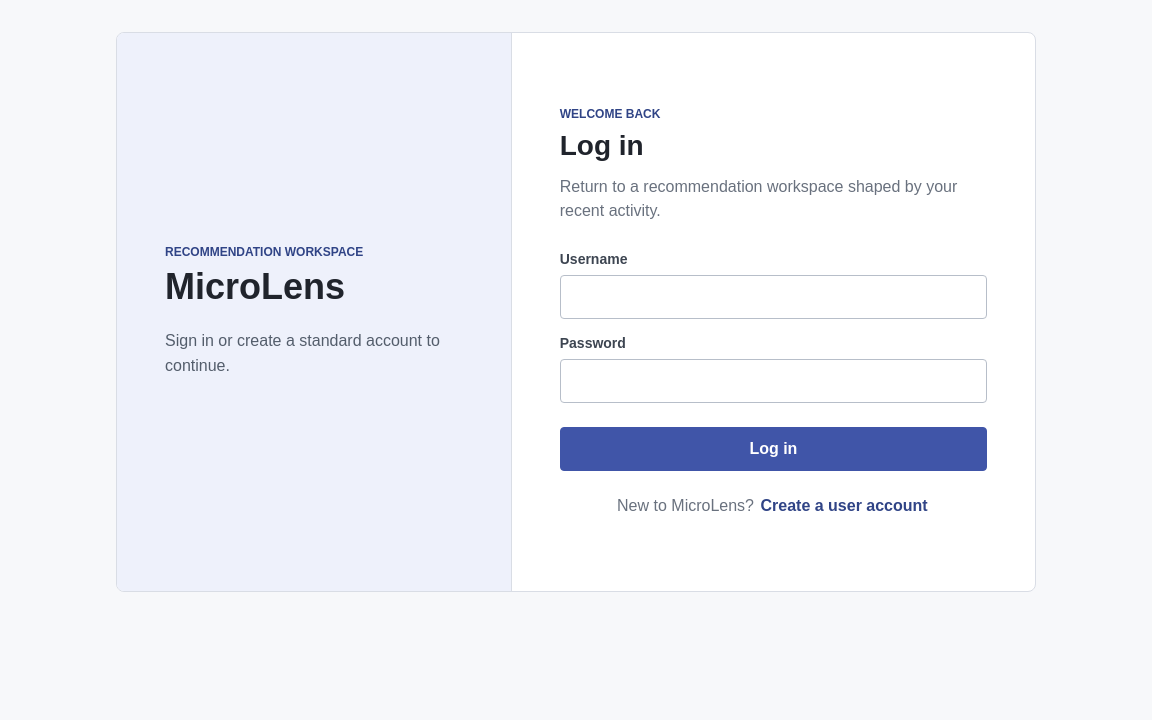
session hydration and protected routing › restores an internal intended path after login
Check: the heading "Log in" is shown, box [560,130,644,161]
In the field labelled "Username": (773, 297) [560,275,987,319], type "operator-demo"
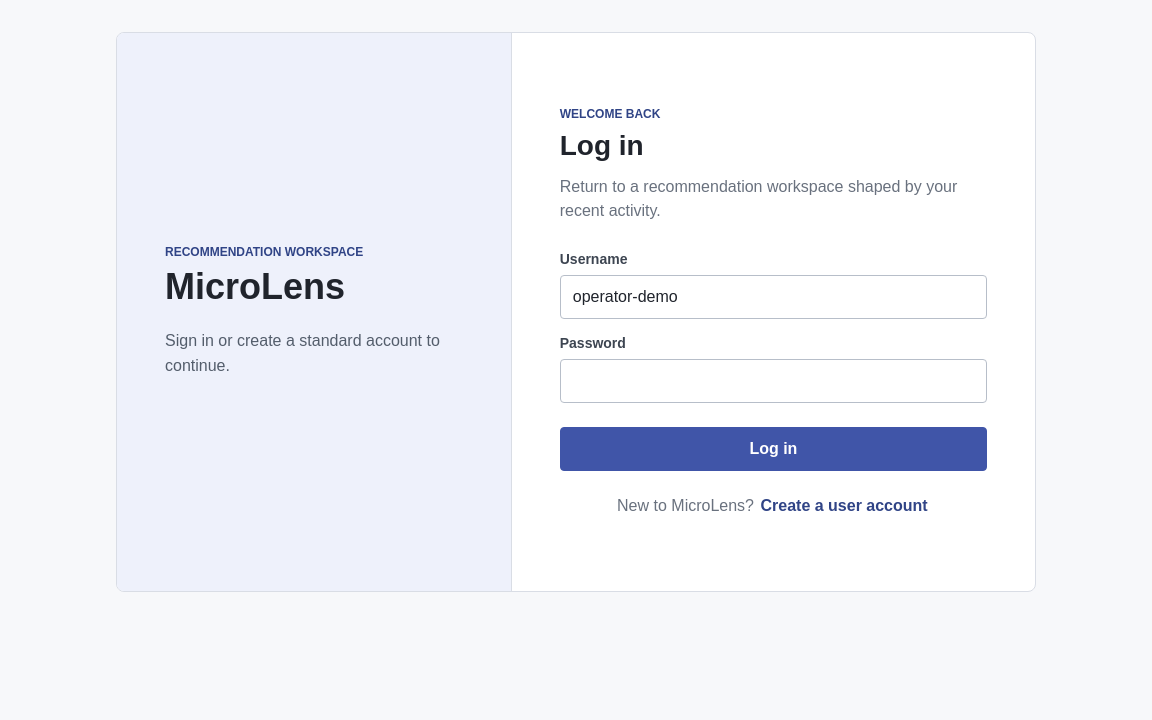
In the password field labelled "Password": (773, 381) [560,359,987,403], type "secure-password"
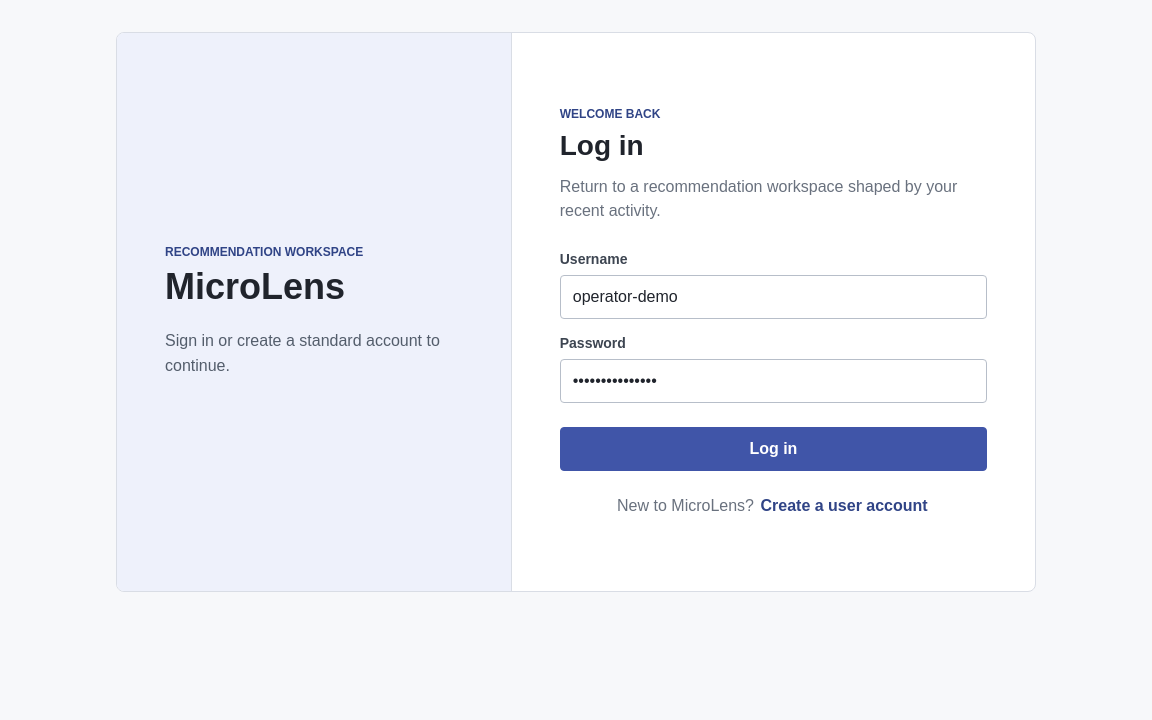
Click the button "Log in": click(773, 449) [560,427,987,471]
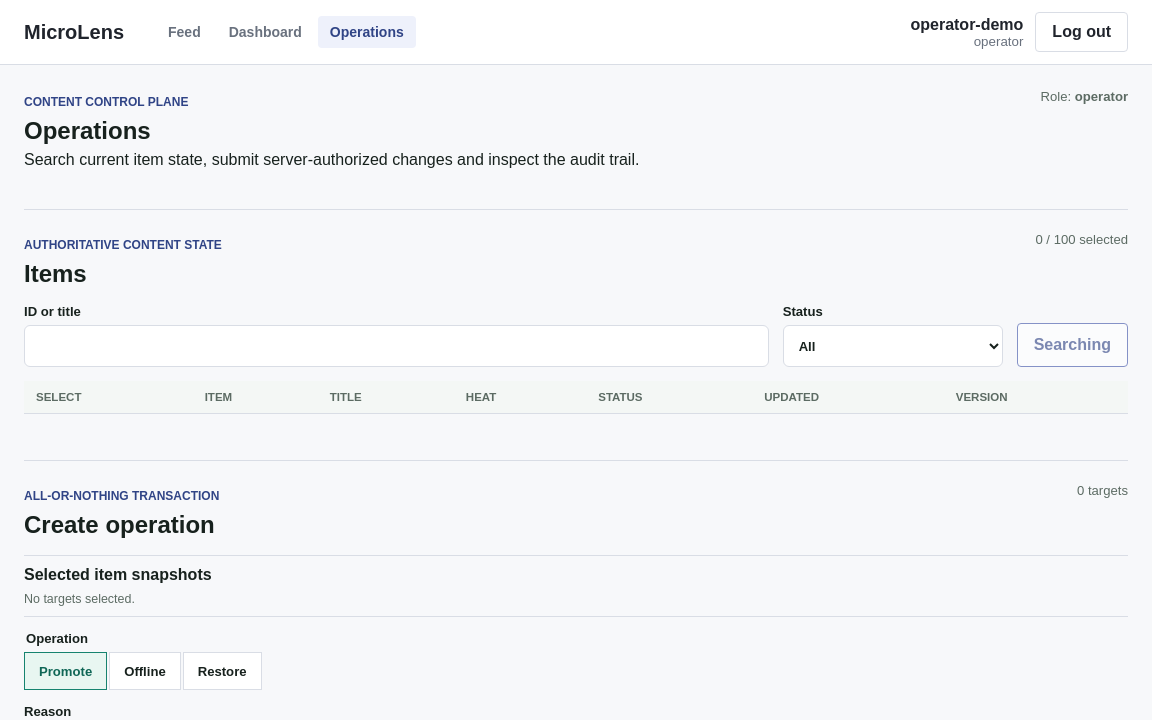
Check: the heading "Operations" is shown, box [24,117,151,144]
